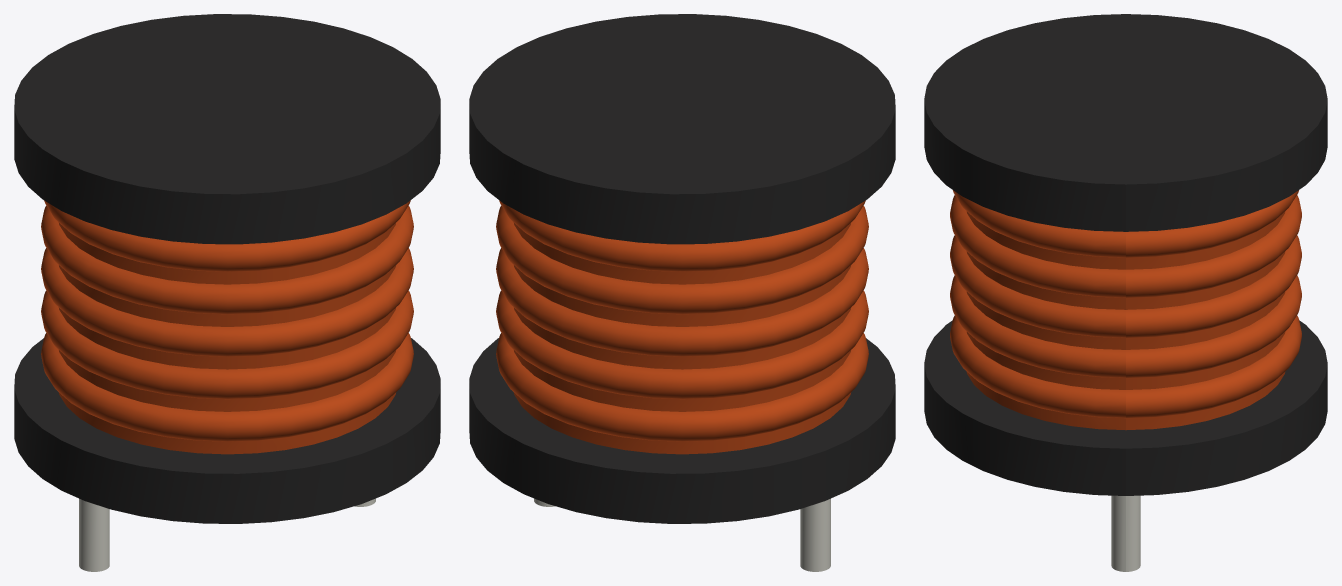
File: kc-l_radial_d12.5mm_p9.00mm_fastron_09hcp.glb
3 views of the same model, side by side, from view 1: azimuth 30°, elevation 25°; view 2: azimuth 150°, elevation 25°; view 3: azimuth 270°, elevation 25° (orthographic). The views are drawn at different scales.
Visible parts, largest first — view 1: 0_0_0_0, 0.4166666666666667_0.08333333333333333_0_0, 0.6666666666666666_0.6666666666666666_0.5833333333333334_0.8; view 2: 0_0_0_0, 0.4166666666666667_0.08333333333333333_0_0, 0.6666666666666666_0.6666666666666666_0.5833333333333334_0.8; view 3: 0_0_0_0, 0.4166666666666667_0.08333333333333333_0_0, 0.6666666666666666_0.6666666666666666_0.5833333333333334_0.8.
Boxes of the visible parts, x1,y1,x2,y2 form: 0_0_0_0: [14, 14, 440, 523]; 0.4166666666666667_0.08333333333333333_0_0: [41, 200, 413, 454]; 0.6666666666666666_0.6666666666666666_0.5833333333333334_0.8: [79, 498, 375, 571]; 0_0_0_0: [469, 14, 895, 523]; 0.4166666666666667_0.08333333333333333_0_0: [496, 200, 868, 454]; 0.6666666666666666_0.6666666666666666_0.5833333333333334_0.8: [534, 498, 830, 571]; 0_0_0_0: [924, 14, 1327, 495]; 0.4166666666666667_0.08333333333333333_0_0: [950, 190, 1301, 430]; 0.6666666666666666_0.6666666666666666_0.5833333333333334_0.8: [1111, 495, 1140, 571].
Bounding box in the file's own units: 1.25 × 1.39 × 1.25.
